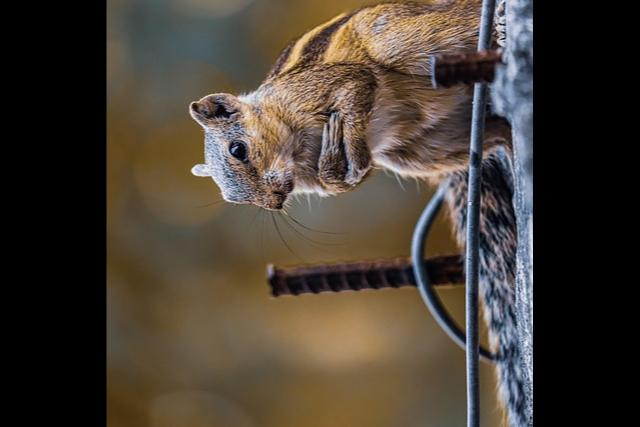Non_Gorille: (118, 0, 493, 427)
